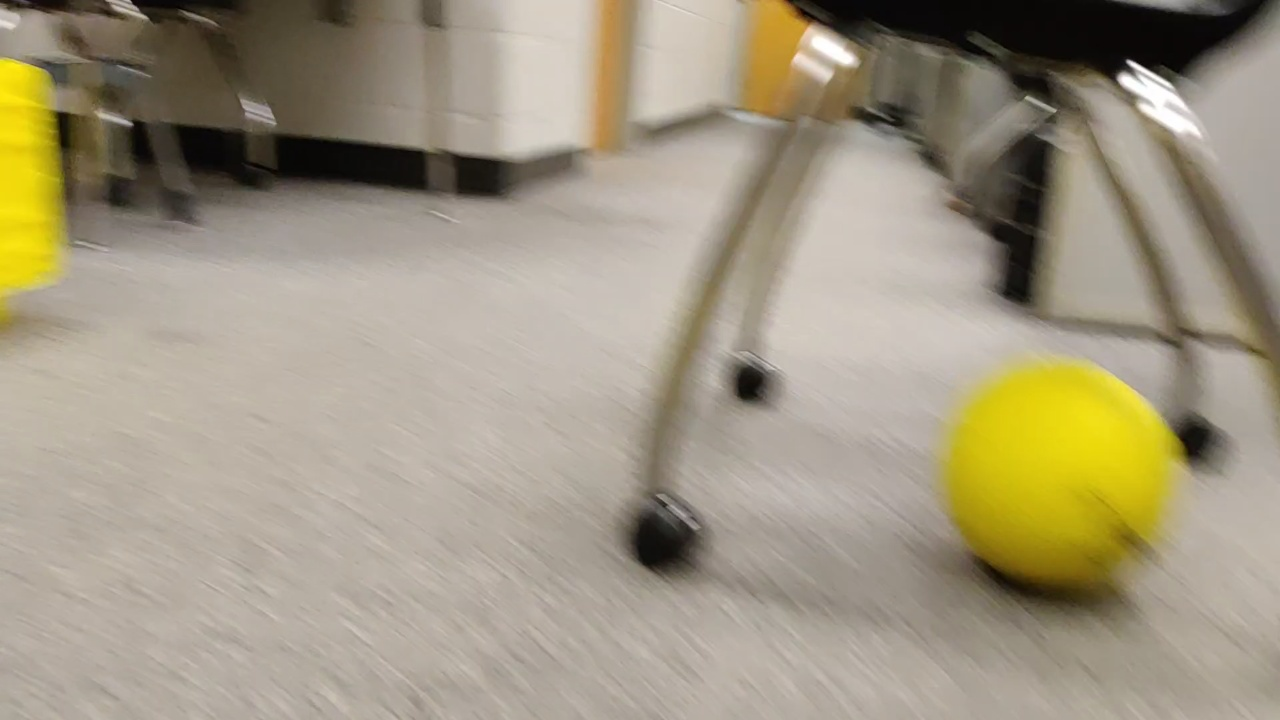Ball: (945, 355, 1184, 610)
